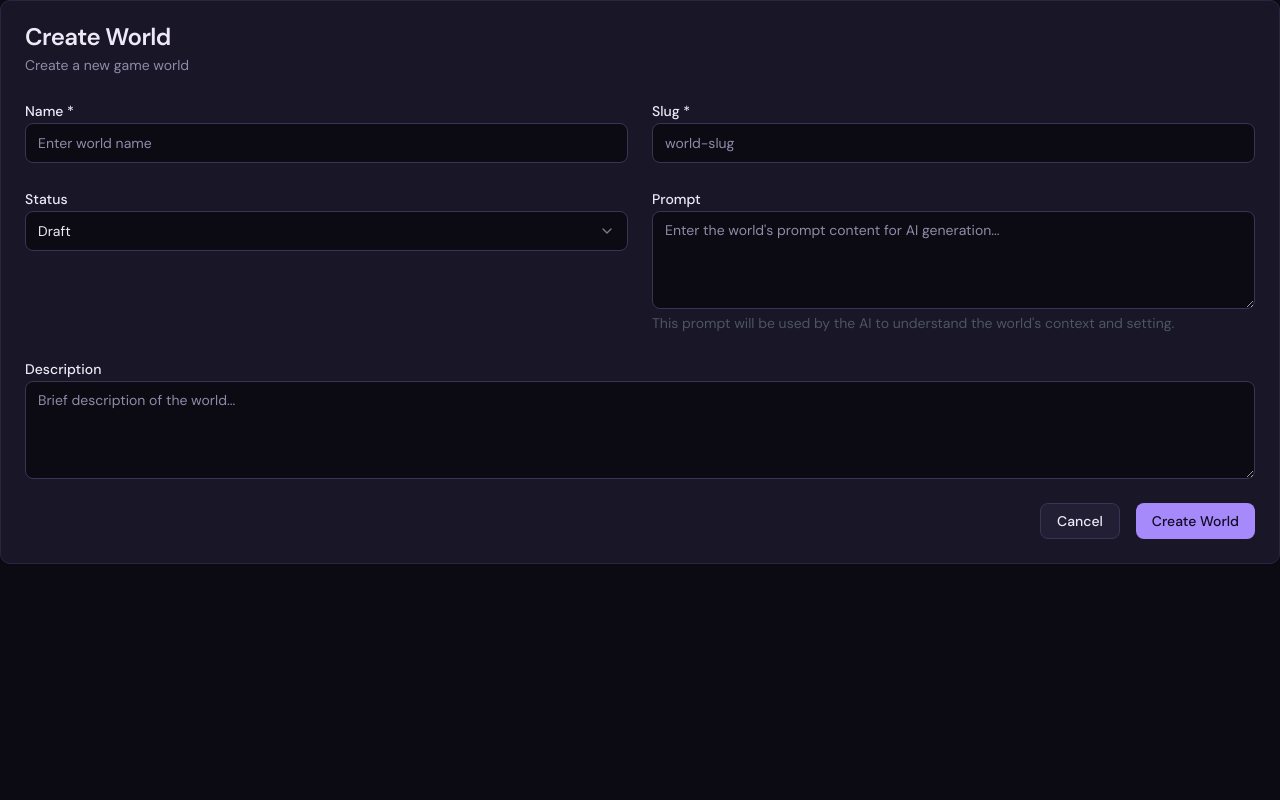
Test: WorldForm › Create World › should auto-generate slug from name
Type "My Test World" into the field labelled "Name *". click: (326, 143)
box: [25, 123, 628, 163]
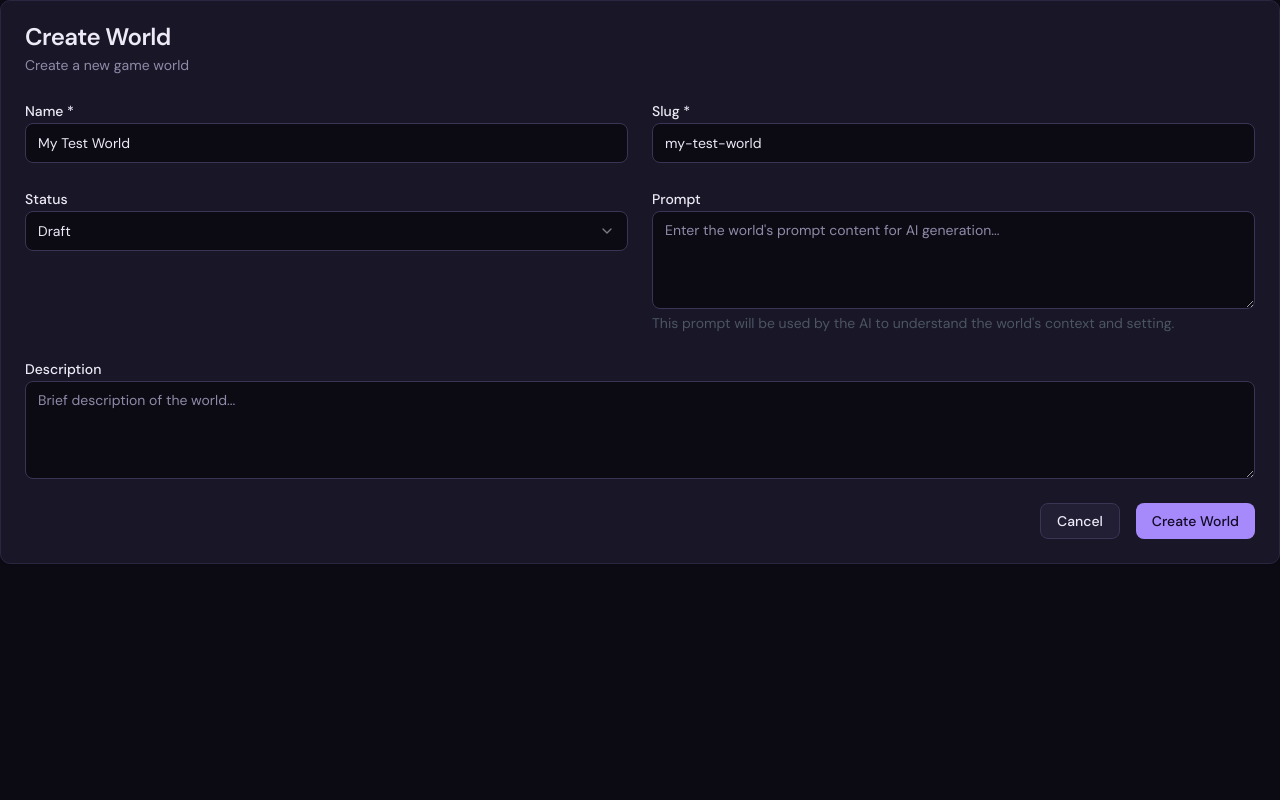
expect the field labelled "Slug *" holds "my-test-world": met, box [652, 123, 1255, 163]
